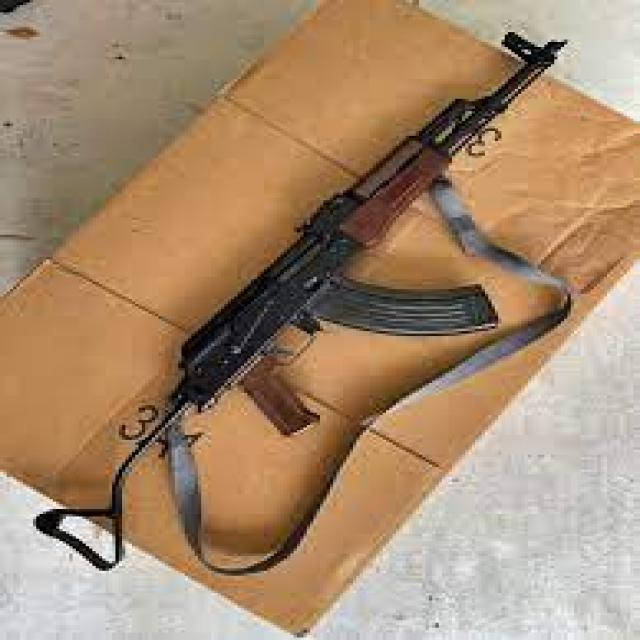heavy-weapon: (34, 31, 571, 573)
